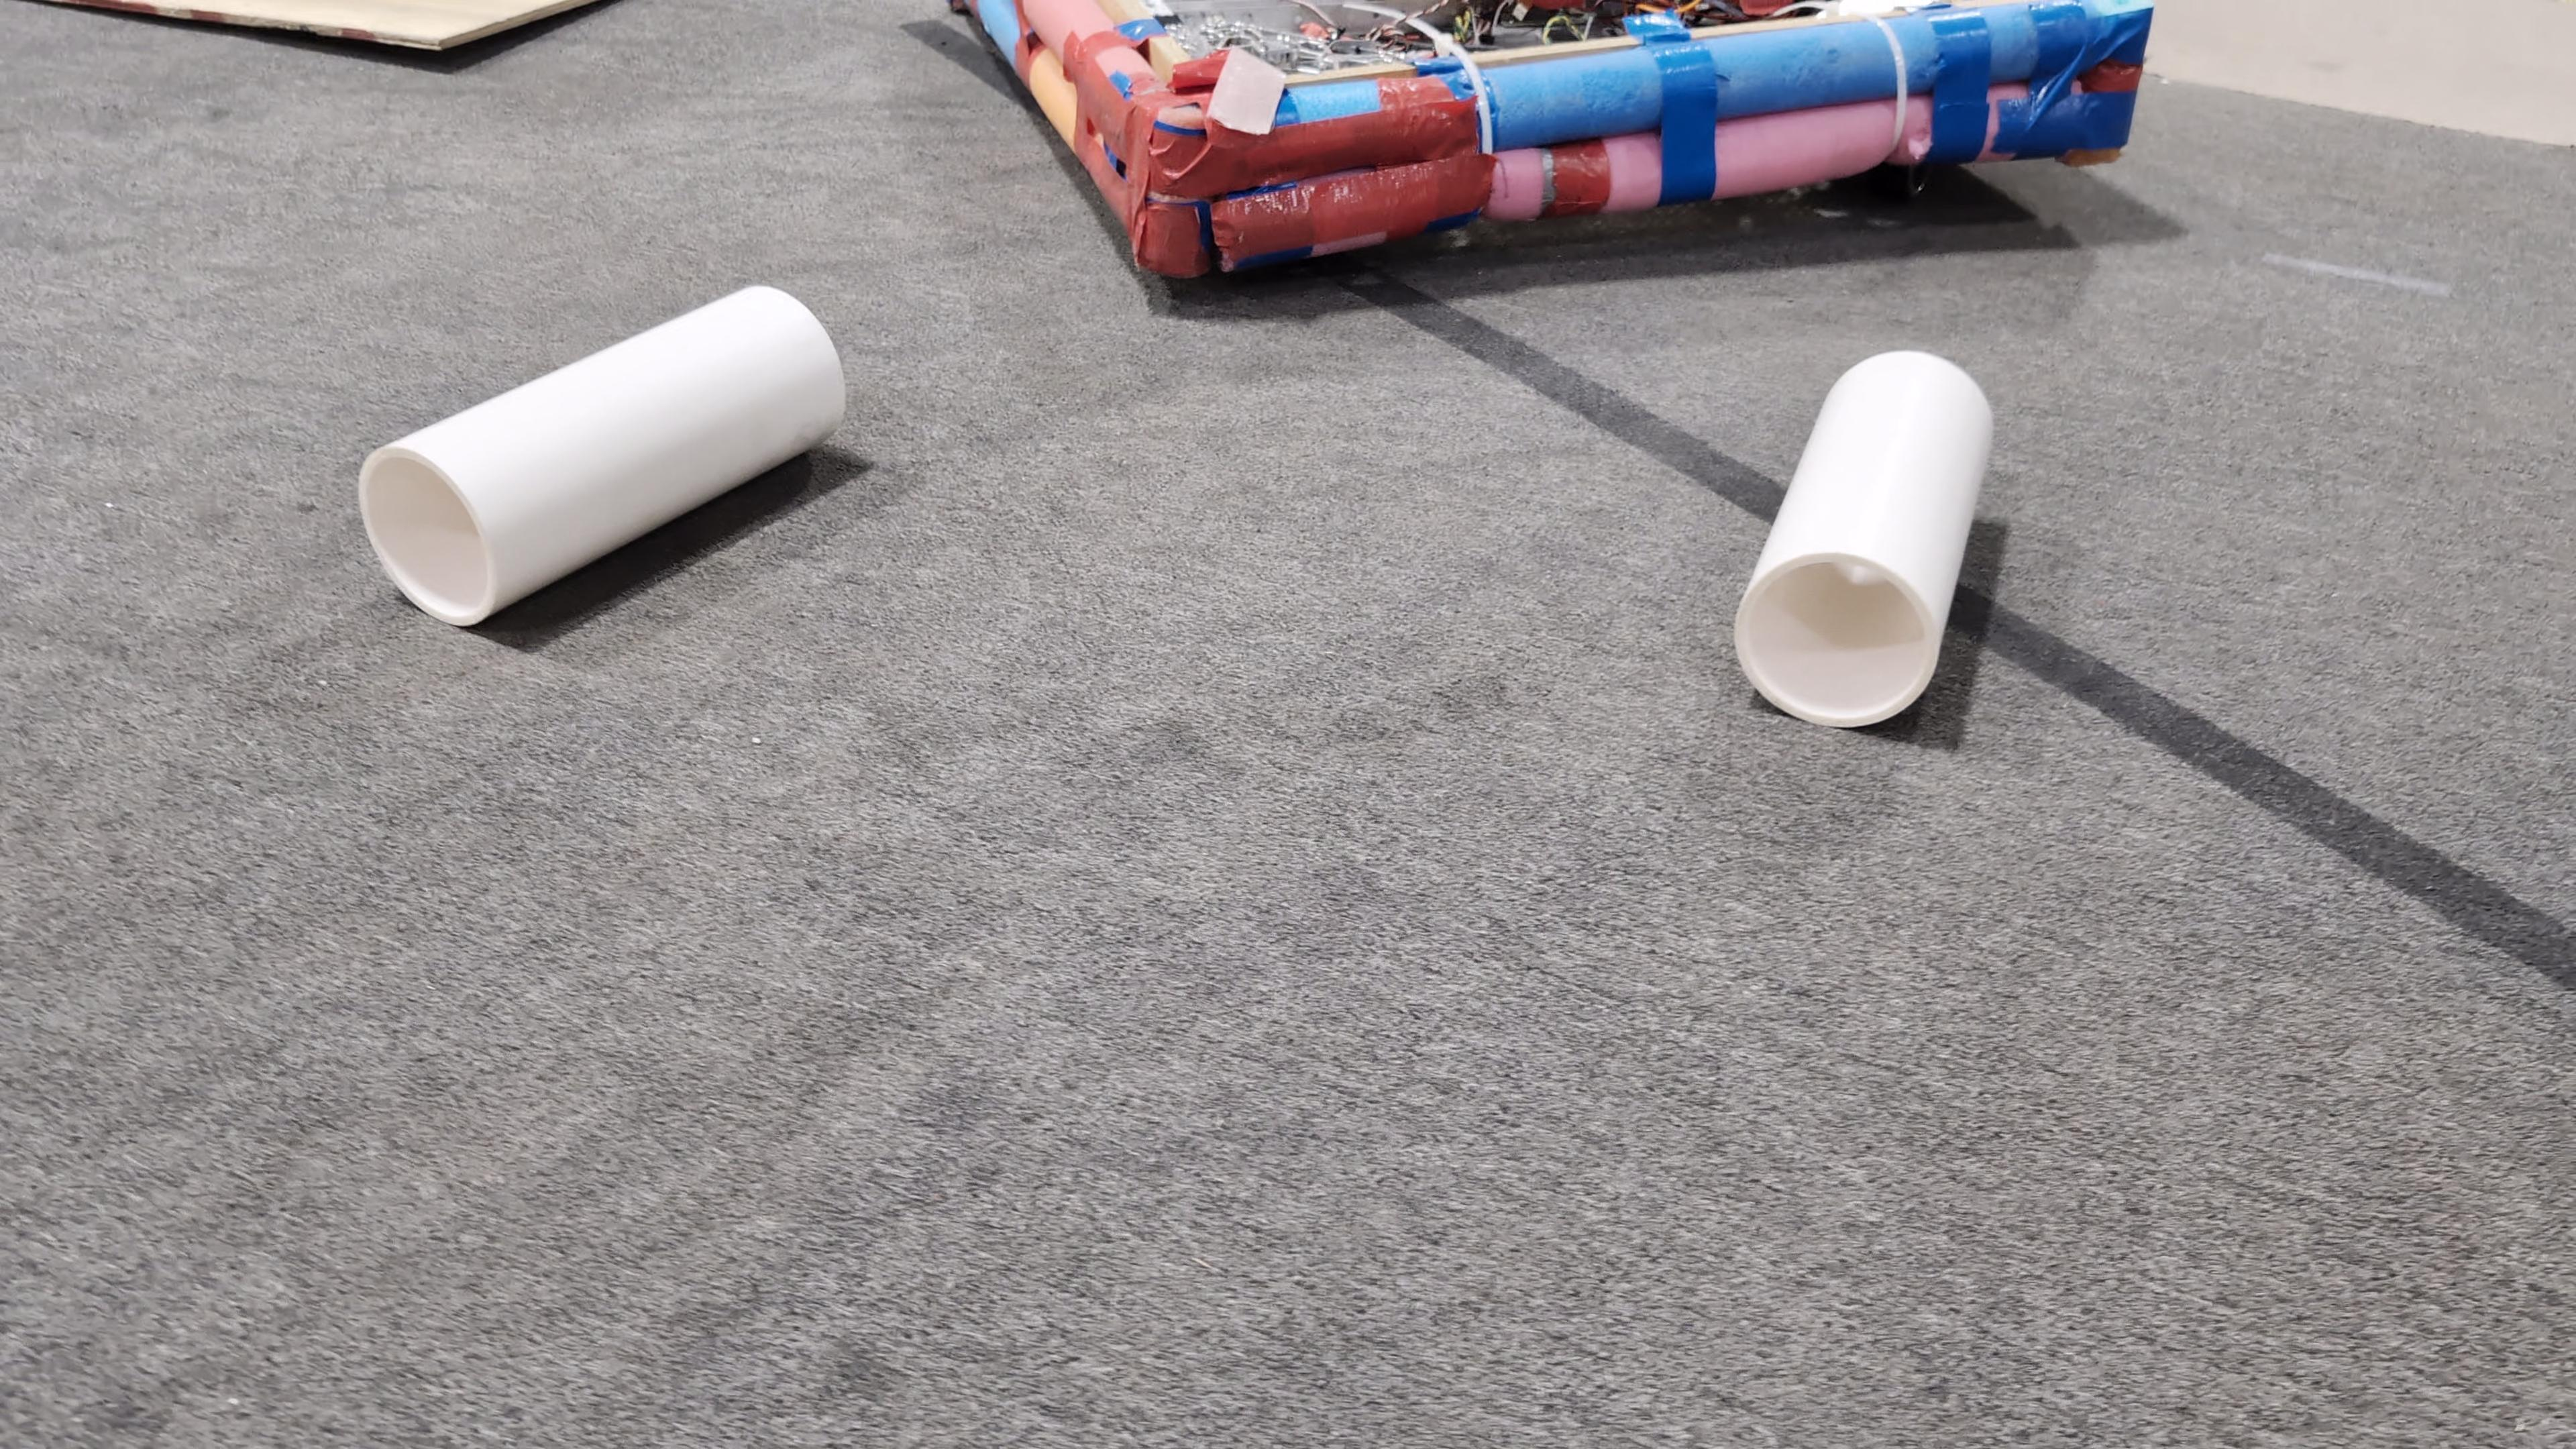coral: (359, 283, 844, 626), (1737, 349, 1994, 729)
